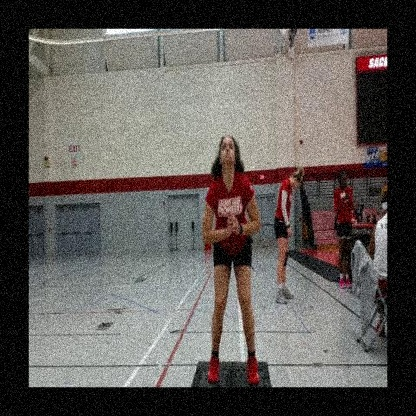lateral_flexion_right: (201, 131, 263, 387)
stance_width_normal: (200, 165, 262, 387)
